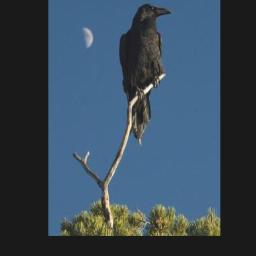Crow: (118, 3, 173, 148)
